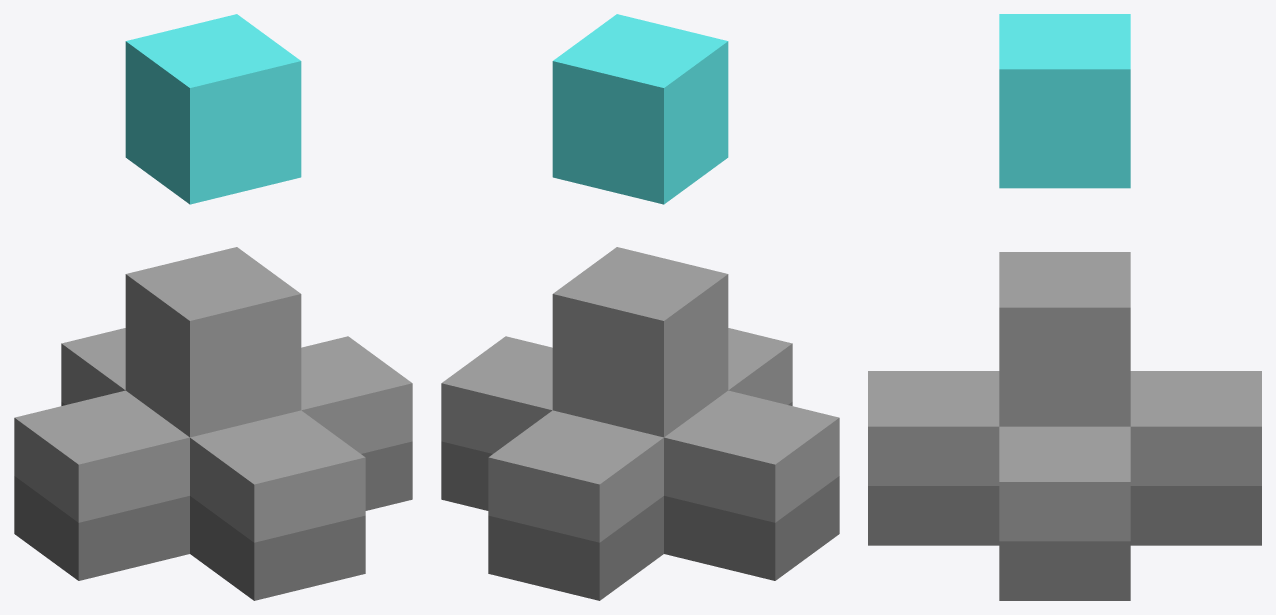
Rendered from small altar-2.obj.
3 renders of one model, left to right at view 1: azimuth 30°, elevation 25°; view 2: azimuth 150°, elevation 25°; view 3: azimuth 270°, elevation 25°, orthographic. The views are drawn at different scales.
Size of the model in its own units: 0.6 by 0.8 by 0.6.
Materials: 1 (1 with a texture image).
